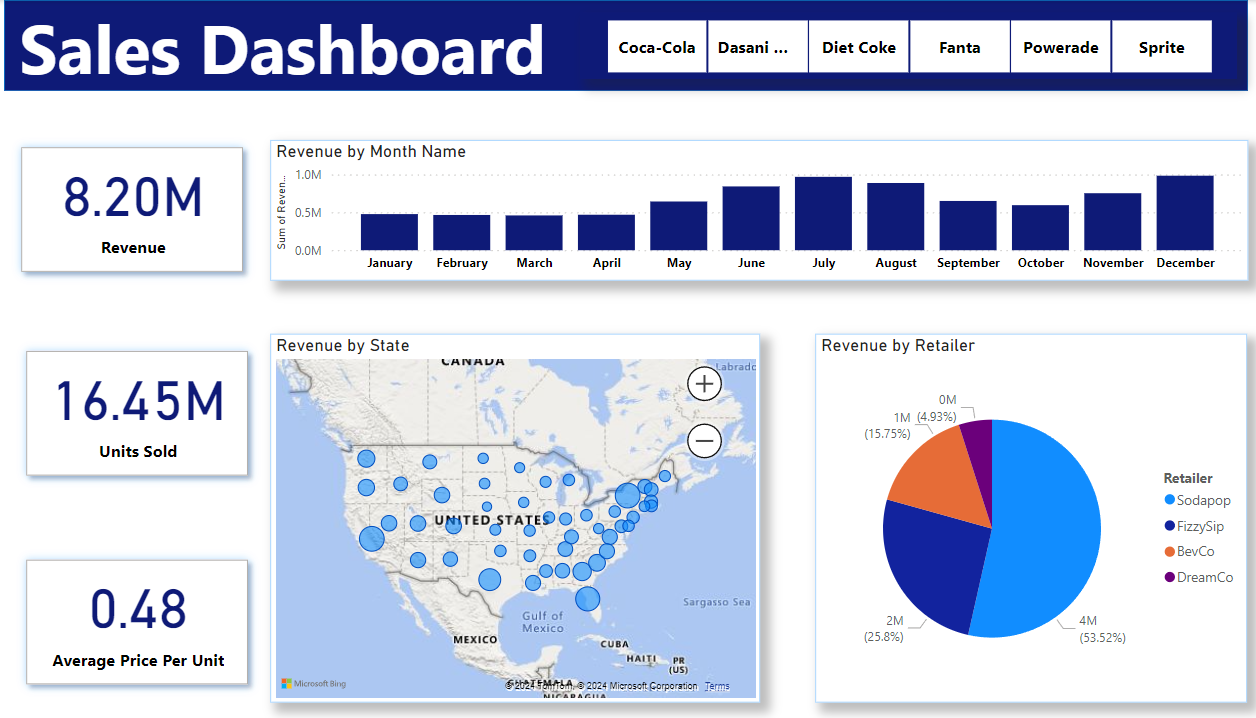

The dashboard page shown, as its layout file describes it:
{"tool":"powerbi","page":{"name":"Page 1","canvas":[1280,720],"ordinal":0},"visuals":[{"type":"shape","box":[28.8,0,1217.2,89.2],"z":0},{"type":"cardVisual","fields":{"Data":["Sum(Data.Revenue)"]},"box":[28.8,127.6,251.1,156.4],"z":1000},{"type":"cardVisual","fields":{"Data":["Sum(Data.Units Sold)"]},"box":[34.3,326.6,251.1,156.4],"z":1001},{"type":"cardVisual","fields":{"Data":["Avg(Data.Price per Unit)"]},"box":[34.3,531,251.1,156.4],"z":1002},{"type":"columnChart","title":"Revenue by Month Name","fields":{"Y":["Sum(Data.Revenue)"],"Category":["Data.Month Name"]},"box":[289.5,137.2,956.4,137.2],"z":1003},{"type":"map","title":"Revenue by State","fields":{"Size":["Sum(Data.Revenue)"],"Category":["Data.State"]},"box":[289.5,326.6,478.9,360.9],"z":1004},{"type":"pieChart","title":"Revenue by Retailer","fields":{"Y":["Sum(Data.Revenue)"],"Category":["Data.Retailer"]},"box":[823.3,326.6,422.6,360.9],"z":1005},{"type":"slicer","fields":{"Values":["Data.Beverage Brand"]},"box":[592.8,12.3,642.2,64.5],"z":1006}]}

Visuals, with their boxes in screenshot pixels (x1, y1, x2, y2), scaled from the page's 1280x720 canvas onto the 1256x718 screenshot:
shape: (x1=28, y1=0, x2=1223, y2=89)
cardVisual - Sum(Data.Revenue): (x1=28, y1=127, x2=275, y2=283)
cardVisual - Sum(Data.Units Sold): (x1=34, y1=326, x2=280, y2=482)
cardVisual - Avg(Data.Price per Unit): (x1=34, y1=530, x2=280, y2=685)
"Revenue by Month Name" columnChart: (x1=284, y1=137, x2=1223, y2=274)
"Revenue by State" map: (x1=284, y1=326, x2=754, y2=686)
"Revenue by Retailer" pieChart: (x1=808, y1=326, x2=1223, y2=686)
slicer - Data.Beverage Brand: (x1=582, y1=12, x2=1212, y2=77)
